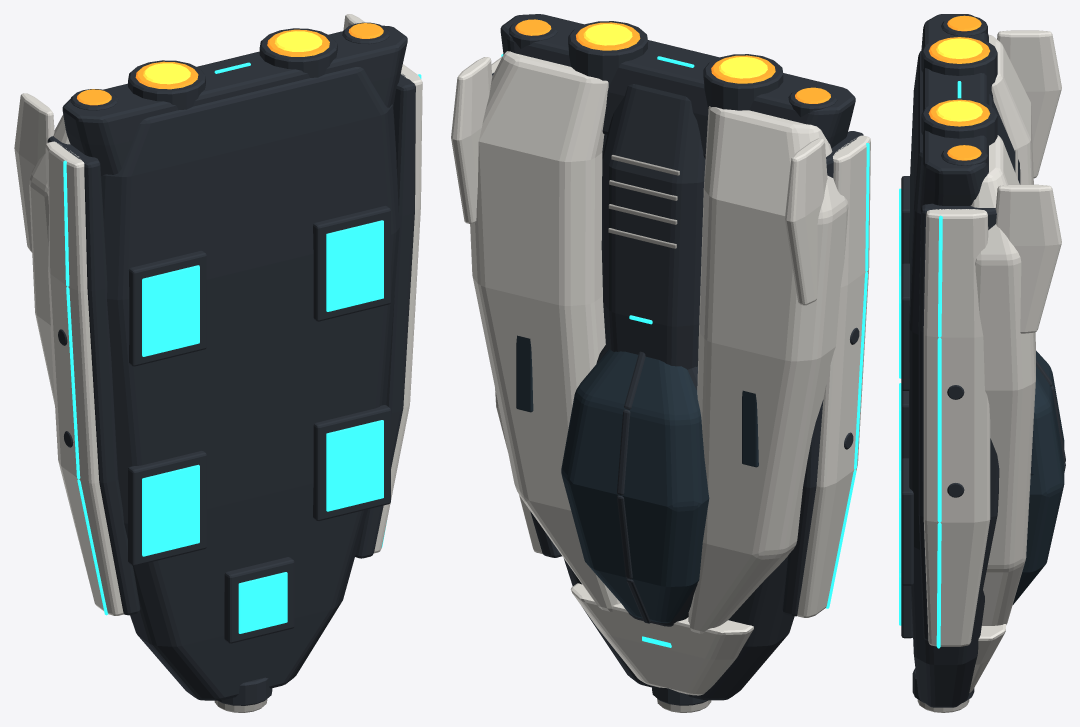
The model's file is breakwall.glb.
3 views of the same model, side by side, from view 1: azimuth 30°, elevation 25°; view 2: azimuth 150°, elevation 25°; view 3: azimuth 270°, elevation 25° (orthographic). The views are drawn at different scales.
Visible parts, largest first — view 1: central_hull, left_armor_plate, thruster_shroud, left_armor_skirt, right_armor_skirt, hover_pad_glow_3, hover_pad_glow_1, hover_pad_glow_2, hover_pad_glow_4, left_deck_shoulder, hover_pad_4, hover_pad_1 (+12 smaller); view 2: left_deck_shoulder, right_deck_shoulder, cockpit_canopy, deck_spine, left_armor_plate, thruster_shroud, nose_cap, central_hull, left_stern_fin, right_stern_fin, left_armor_skirt, right_main_nozzle (+10 smaller); view 3: right_armor_plate, right_deck_shoulder, central_hull, thruster_shroud, right_stern_fin, cockpit_canopy, left_stern_fin, right_armor_skirt, left_deck_shoulder, left_main_nozzle, hover_pad_2, right_main_nozzle (+20 smaller).
Boxes of the visible parts, left/top/right/bottom form: central_hull: left=101, top=67, right=399, bottom=700; left_armor_plate: left=45, top=141, right=123, bottom=615; thruster_shroud: left=62, top=25, right=407, bottom=175; left_armor_skirt: left=47, top=136, right=140, bottom=615; right_armor_skirt: left=355, top=73, right=415, bottom=558; hover_pad_glow_3: left=142, top=265, right=199, bottom=356; hover_pad_glow_1: left=142, top=464, right=199, bottom=556; hover_pad_glow_2: left=326, top=420, right=383, bottom=511; hover_pad_glow_4: left=326, top=220, right=383, bottom=311; left_deck_shoulder: left=29, top=114, right=70, bottom=404; hover_pad_4: left=313, top=205, right=390, bottom=321; hover_pad_1: left=128, top=451, right=206, bottom=565; left_deck_shoulder: left=688, top=106, right=848, bottom=633; right_deck_shoulder: left=470, top=51, right=620, bottom=611; cockpit_canopy: left=561, top=349, right=709, bottom=623; deck_spine: left=602, top=84, right=705, bottom=369; left_armor_plate: left=797, top=135, right=870, bottom=617; thruster_shroud: left=500, top=14, right=855, bottom=158; nose_cap: left=570, top=583, right=753, bottom=695; central_hull: left=564, top=134, right=794, bottom=700; left_stern_fin: left=785, top=138, right=827, bottom=305; right_stern_fin: left=451, top=57, right=492, bottom=223; left_armor_skirt: left=782, top=131, right=863, bottom=616; right_main_nozzle: left=568, top=21, right=647, bottom=86; right_armor_plate: left=923, top=209, right=990, bottom=646; right_deck_shoulder: left=970, top=135, right=1035, bottom=625; central_hull: left=909, top=50, right=984, bottom=707; thruster_shroud: left=919, top=14, right=993, bottom=210; right_stern_fin: left=995, top=184, right=1061, bottom=333; cockpit_canopy: left=1013, top=350, right=1064, bottom=604; left_stern_fin: left=997, top=30, right=1061, bottom=178; right_armor_skirt: left=918, top=203, right=999, bottom=640; left_deck_shoulder: left=988, top=34, right=1033, bottom=184; left_main_nozzle: left=921, top=35, right=997, bottom=89; hover_pad_2: left=901, top=458, right=913, bottom=585; right_main_nozzle: left=921, top=98, right=997, bottom=145.
Size of the model in its own units: 1.63 by 2.82 by 0.6765.
